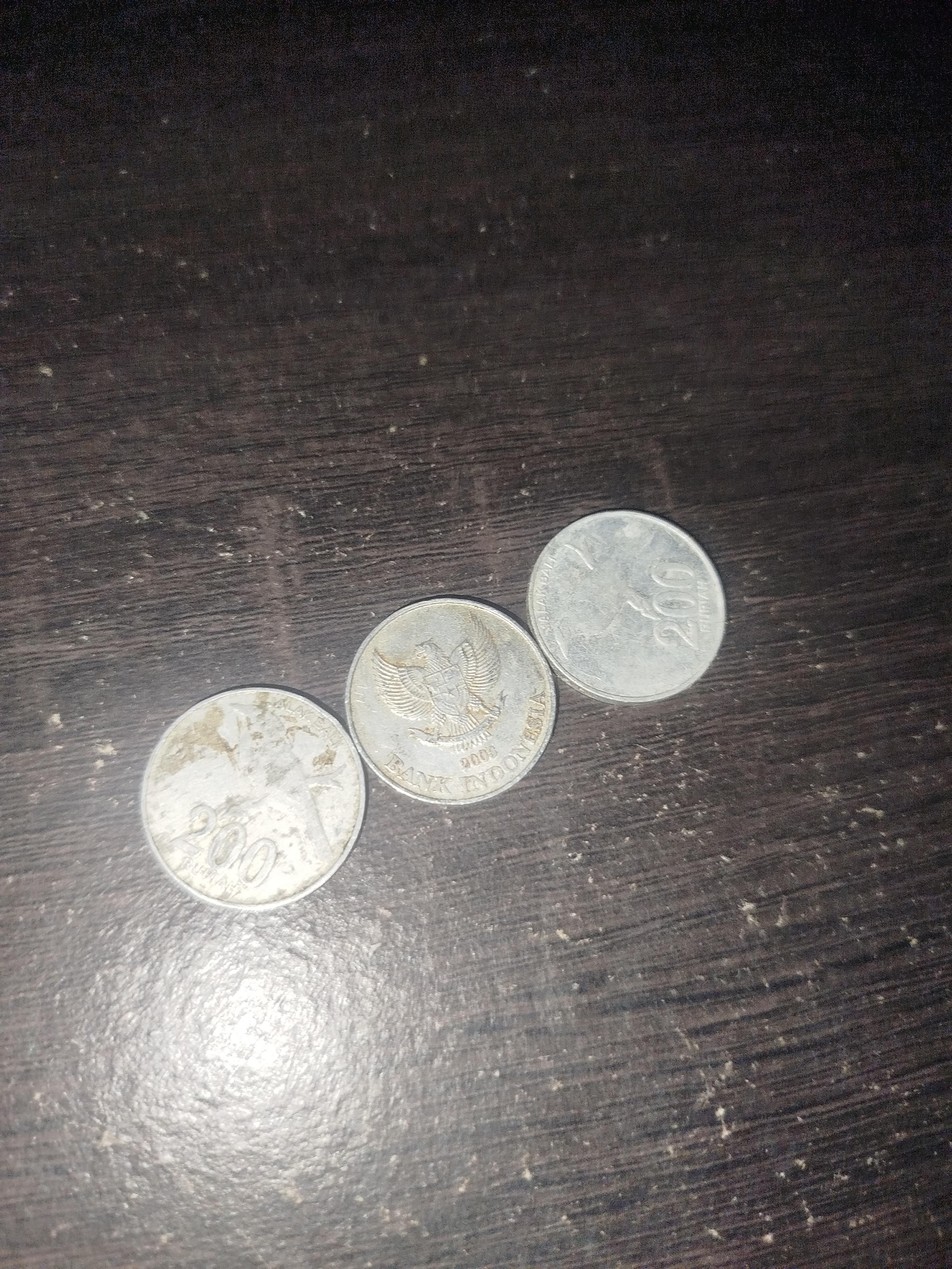coin_200_e2003: (137, 683, 368, 920), (359, 592, 559, 807), (527, 503, 733, 707)
